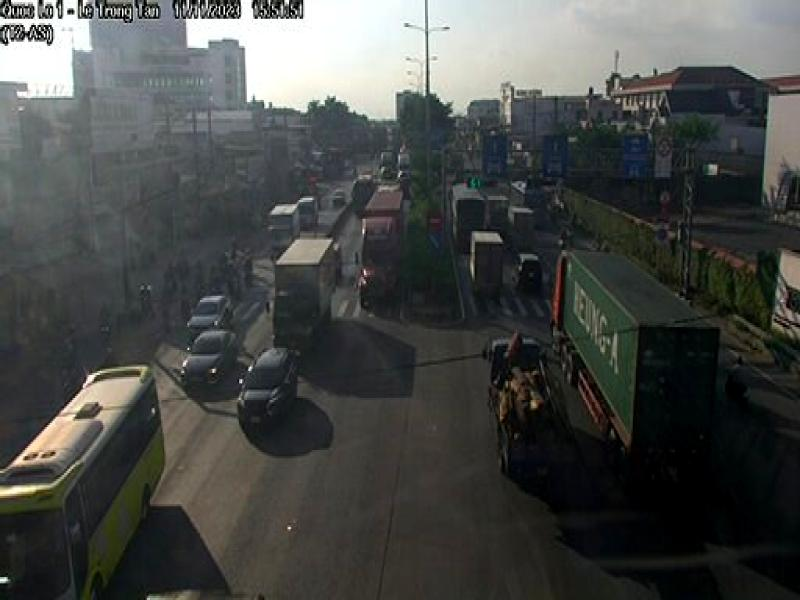bus: (0, 363, 170, 600)
truck: (551, 241, 716, 495), (273, 236, 333, 358), (360, 188, 401, 301), (466, 230, 506, 300)
